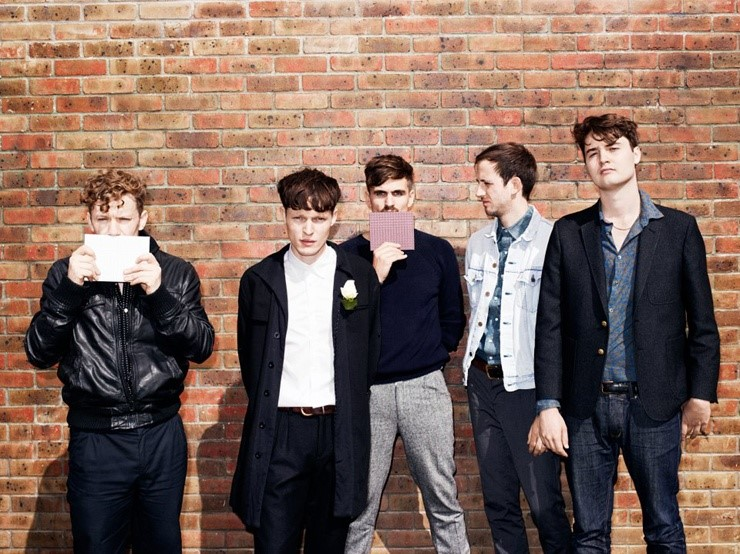face_no_mask: (276, 169, 339, 254), (576, 114, 642, 187), (474, 143, 536, 217), (82, 169, 147, 239), (362, 156, 416, 215)
